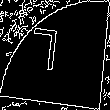L_S: (38, 28, 72, 82)
